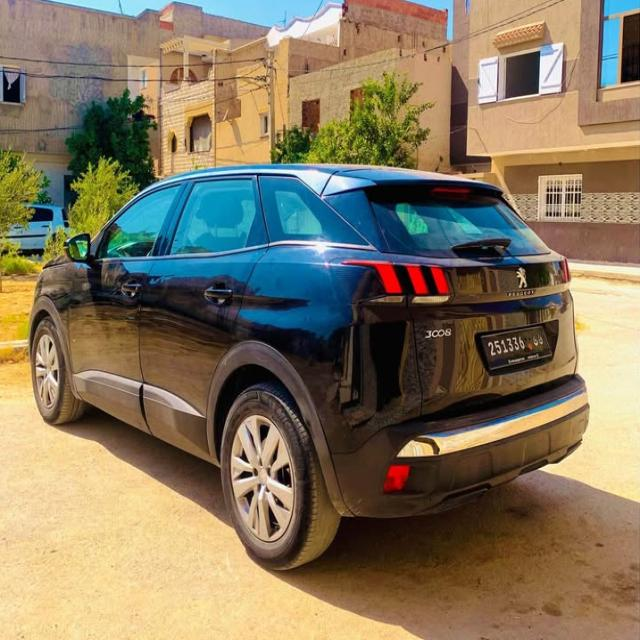licence plate: (482, 329, 546, 360)
